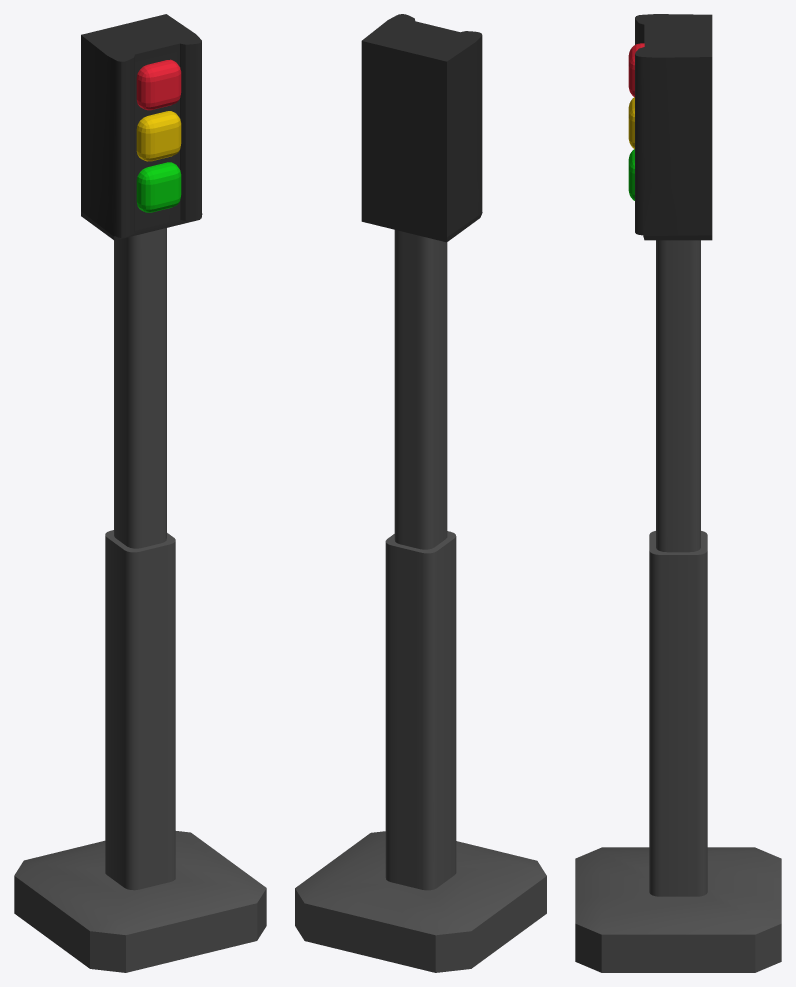
Rendered from traffic-light.fbx.
3 views of the same model, side by side, from view 1: azimuth 30°, elevation 25°; view 2: azimuth 150°, elevation 25°; view 3: azimuth 270°, elevation 25° (orthographic).
Visible parts, largest first — view 1: traffic-light, traffic-lights; view 2: traffic-light; view 3: traffic-light, traffic-lights.
Part boxes in pixels (left/top/right/bottom): traffic-light: left=14, top=14, right=266, bottom=972; traffic-lights: left=136, top=59, right=181, bottom=212; traffic-light: left=295, top=14, right=546, bottom=972; traffic-light: left=575, top=14, right=781, bottom=972; traffic-lights: left=628, top=43, right=644, bottom=200.
Size of the model in its own units: 200 by 962 by 200.
